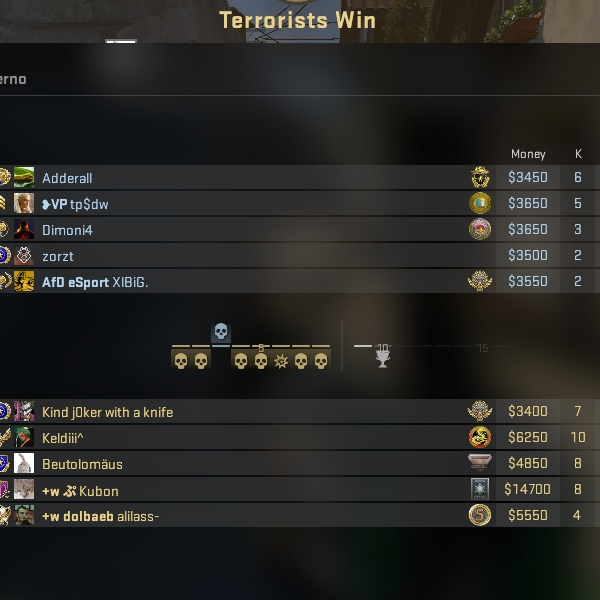t_body: (0, 193, 46, 288)
